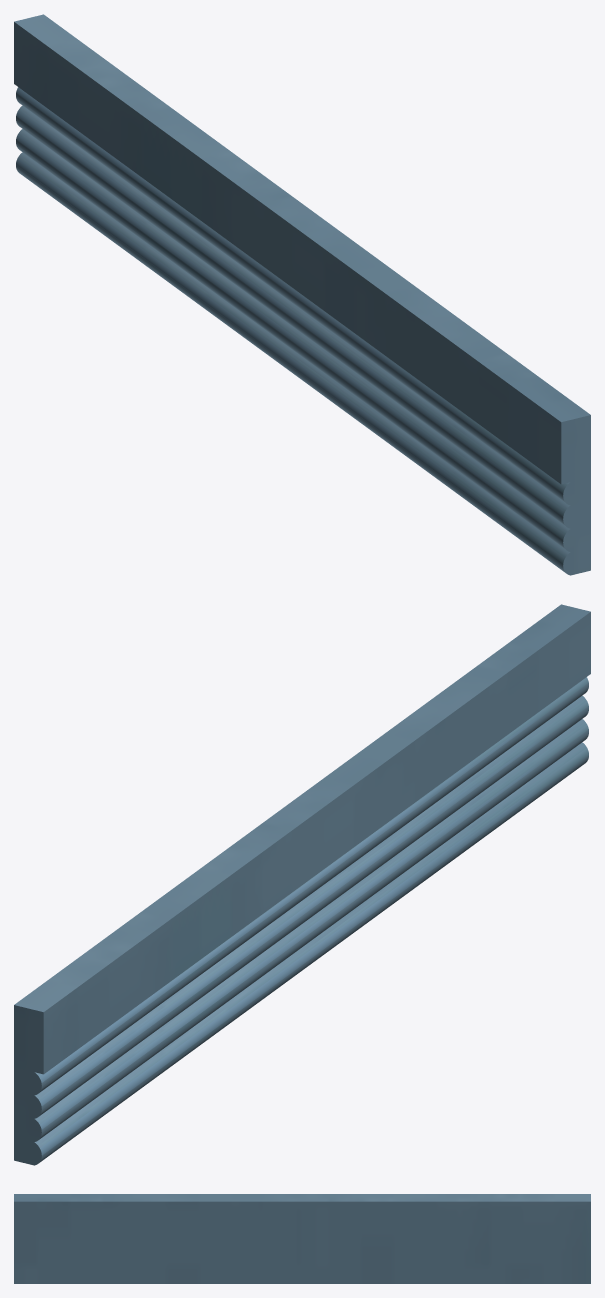
The model's file is original-52.obj.
3 views of the same model, one above another, from view 1: azimuth 30°, elevation 25°; view 2: azimuth 150°, elevation 25°; view 3: azimuth 270°, elevation 25° (orthographic). The views are drawn at different scales.
Visible parts, largest first — view 1: Moulding-510.80.16_2/Moulding-510.80.16_1_2/mesh61/mesh61-geomet; view 2: Moulding-510.80.16_2/Moulding-510.80.16_1_2/mesh61/mesh61-geomet; view 3: Moulding-510.80.16_2/Moulding-510.80.16_1_2/mesh61/mesh61-geomet.
Part boxes in pixels (x1=…): Moulding-510.80.16_2/Moulding-510.80.16_1_2/mesh61/mesh61-geomet: x1=14, y1=14, x2=590, y2=575; Moulding-510.80.16_2/Moulding-510.80.16_1_2/mesh61/mesh61-geomet: x1=14, y1=604, x2=590, y2=1165; Moulding-510.80.16_2/Moulding-510.80.16_1_2/mesh61/mesh61-geomet: x1=14, y1=1194, x2=590, y2=1283.
Size of the model in its own units: 0.0132 by 0.0661 by 0.4215.
